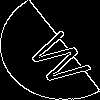W: (25, 25, 100, 89)
